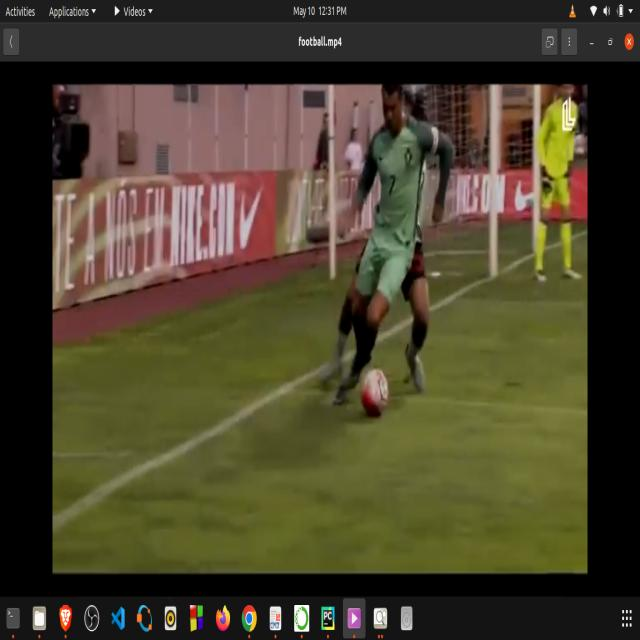Ball: (358, 361, 389, 426)
Goalkeeper: (526, 88, 587, 307)
football-players: (325, 82, 413, 425), (402, 86, 454, 395)
